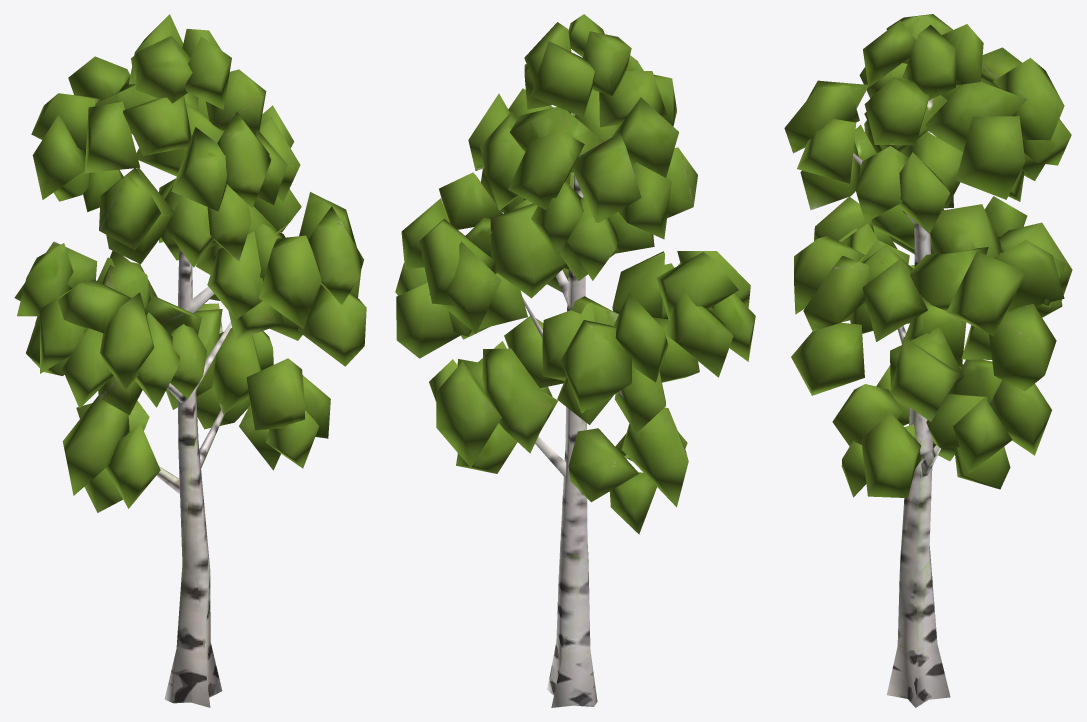
Rendered from tree-variety-b.glb.
3 views of the same model, side by side, from view 1: azimuth 30°, elevation 25°; view 2: azimuth 150°, elevation 25°; view 3: azimuth 270°, elevation 25° (orthographic).
Parts seen in each view (by area): view 1: mesh_node; view 2: mesh_node; view 3: mesh_node.
Boxes of the visible parts, x1,y1,x2,y2 form: mesh_node: (14, 14, 366, 707); mesh_node: (395, 14, 755, 707); mesh_node: (784, 14, 1072, 707).
Bounding box in the file's own units: 0.4971 × 1 × 0.3877.
1 material, 1 textured.
